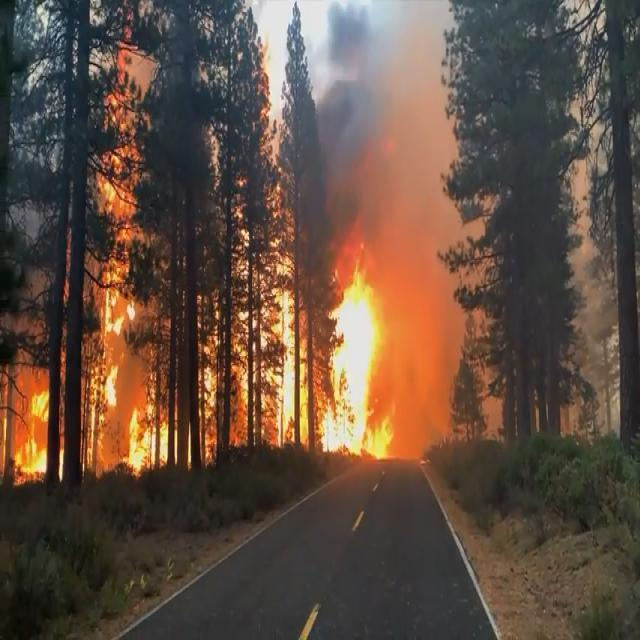Fire: (95, 60, 169, 472), (322, 240, 394, 458), (1, 362, 55, 484)
